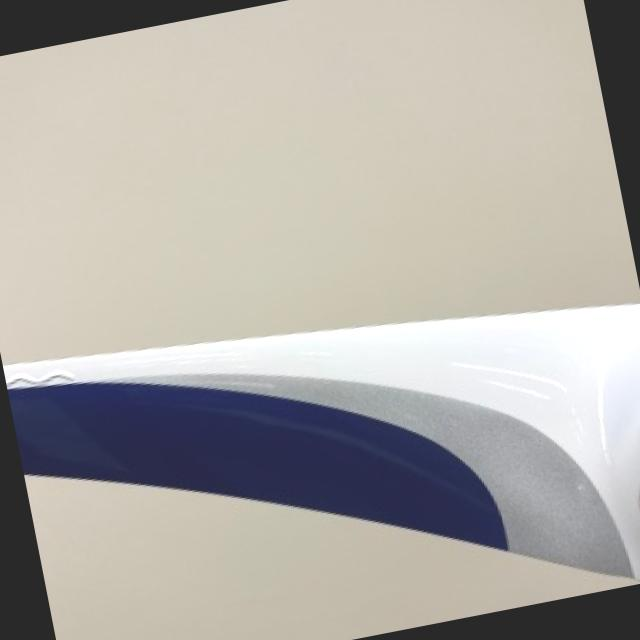healthy: (5, 301, 640, 578)
